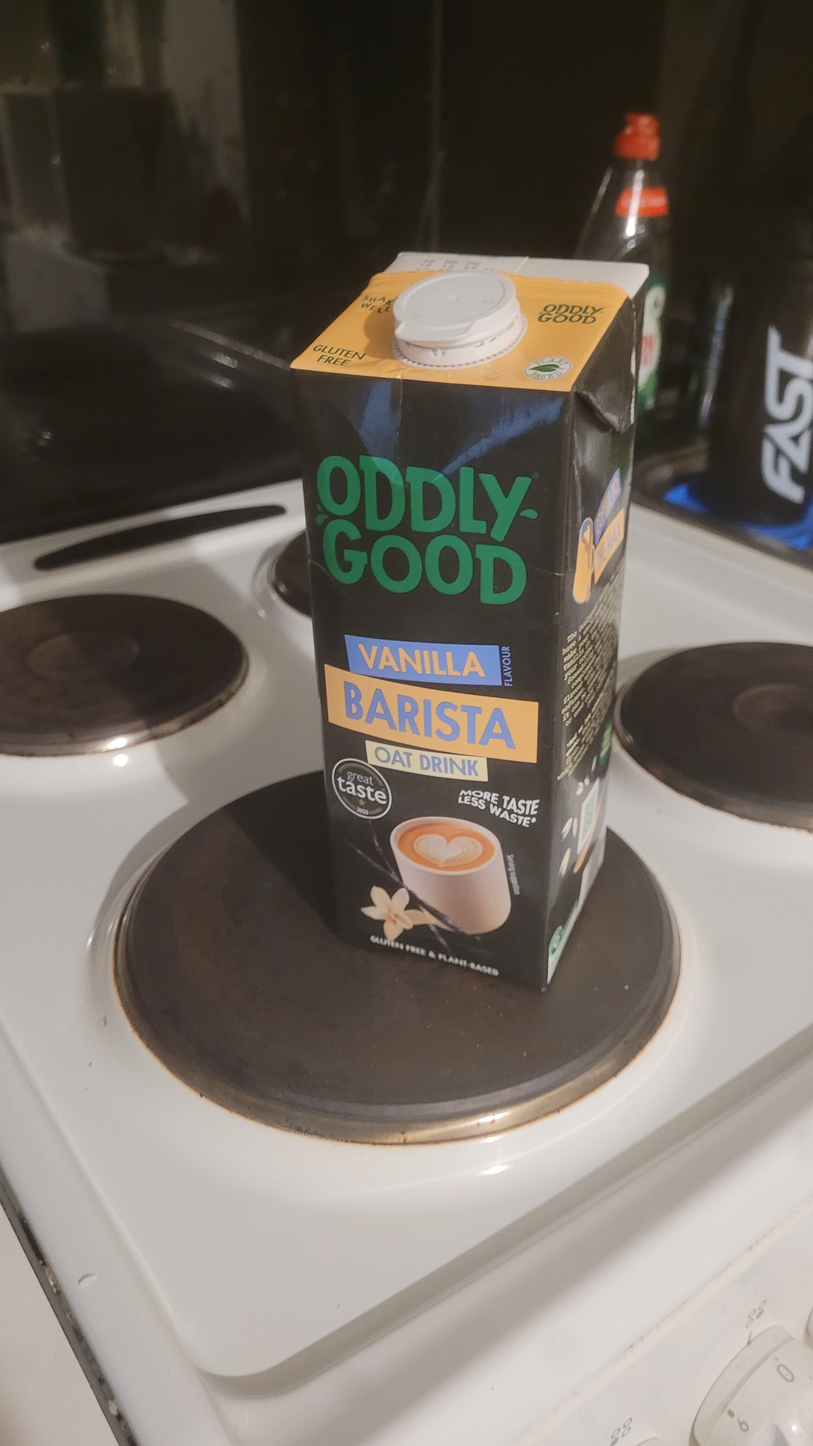Dryckeskartong: (287, 250, 653, 994)
